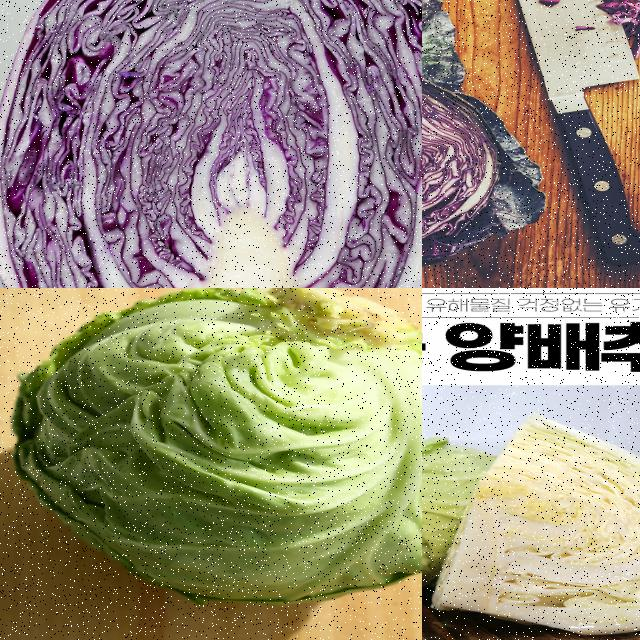cabbage: (7, 288, 421, 608), (0, 0, 421, 287), (434, 409, 639, 639), (422, 62, 499, 282), (422, 430, 502, 600)
